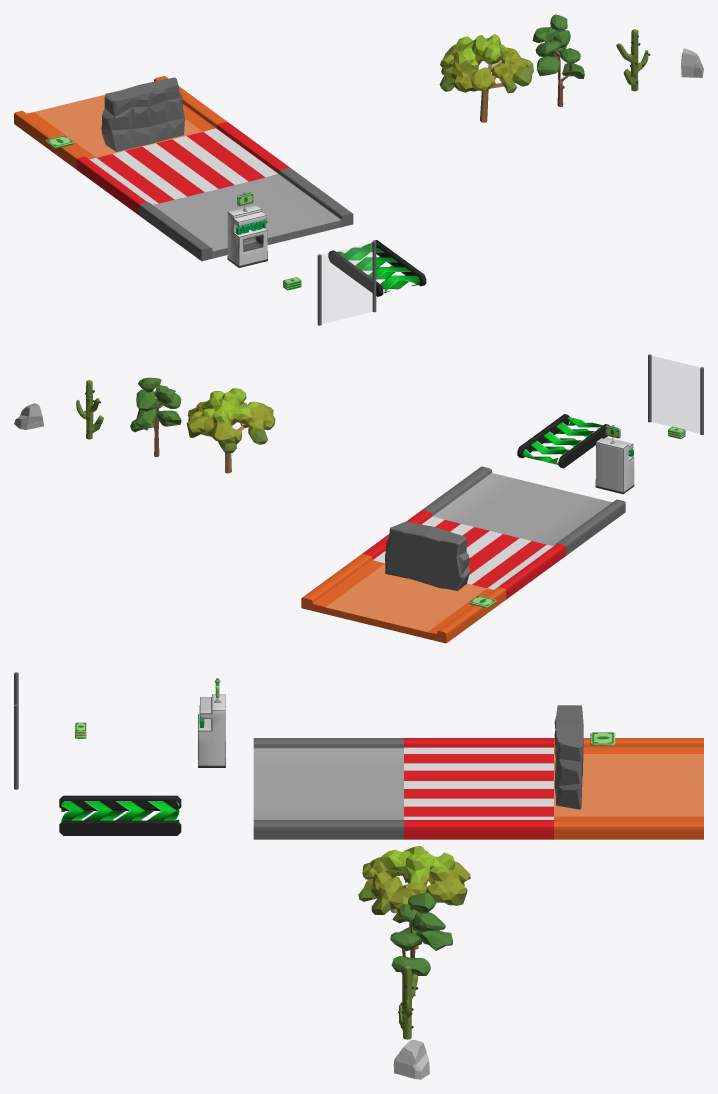
The model's file is environment.fbx.
3 renders of one model, top to bottom at view 1: azimuth 30°, elevation 25°; view 2: azimuth 150°, elevation 25°; view 3: azimuth 270°, elevation 25°, orthographic. The views are drawn at different scales.
Parts seen in each view (by area): view 1: Finish_Ground, Road, Finish_Ground.1, FinishWall, Tree_V1, Plane, Speed_Band, Tree_V2, Deposit, Tree_v3, Gate, Stone; view 2: Finish_Ground.1, Road, Finish_Ground, FinishWall, Tree_V1, Plane, Speed_Band, Tree_V2, Deposit, Tree_v3, Stone, Gate; view 3: Road, Finish_Ground, Finish_Ground.1, Tree_V1, Speed_Band, FinishWall, Tree_V2, Deposit, Stone, Tree_v3.
Boxes of the visible parts, x1,y1,x2,y2 form: Finish_Ground: [76, 122, 289, 214]; Road: [139, 167, 353, 261]; Finish_Ground.1: [14, 76, 227, 169]; FinishWall: [101, 77, 184, 151]; Tree_V1: [439, 34, 533, 122]; Plane: [322, 243, 372, 323]; Speed_Band: [328, 240, 426, 296]; Tree_V2: [532, 14, 584, 106]; Deposit: [227, 205, 267, 267]; Tree_v3: [616, 29, 650, 91]; Gate: [317, 241, 376, 325]; Stone: [681, 48, 703, 77]; Finish_Ground.1: [301, 554, 505, 643]; Road: [422, 466, 625, 555]; Finish_Ground: [362, 510, 565, 599]; FinishWall: [385, 521, 469, 591]; Tree_V1: [186, 388, 275, 473]; Plane: [651, 356, 699, 433]; Speed_Band: [517, 414, 609, 468]; Tree_V2: [130, 377, 181, 456]; Deposit: [595, 437, 634, 494]; Tree_v3: [76, 380, 103, 439]; Stone: [14, 403, 43, 429]; Gate: [648, 354, 703, 435]; Road: [253, 738, 403, 839]; Finish_Ground: [404, 738, 553, 839]; Finish_Ground.1: [554, 738, 703, 839]; Tree_V1: [358, 846, 470, 949]; Speed_Band: [59, 795, 181, 835]; FinishWall: [554, 705, 583, 809]; Tree_V2: [390, 892, 452, 995]; Deposit: [198, 694, 225, 767]; Stone: [393, 1040, 429, 1079]; Tree_v3: [398, 965, 418, 1039].
Size of the model in its own units: 2660 by 402 by 2299.
4 materials, 3 textured.
